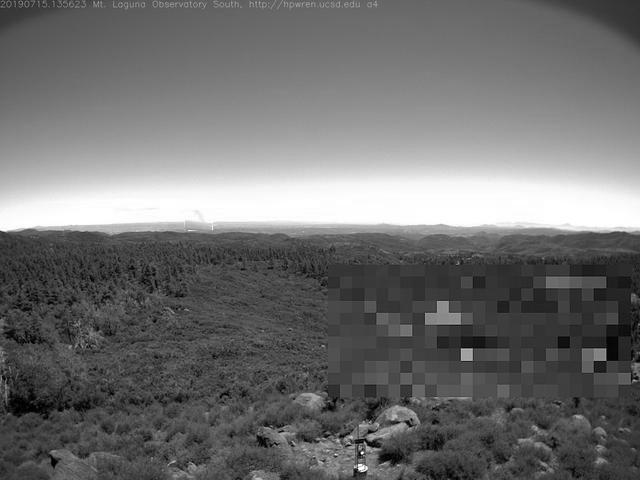smoke: (186, 206, 215, 233)
